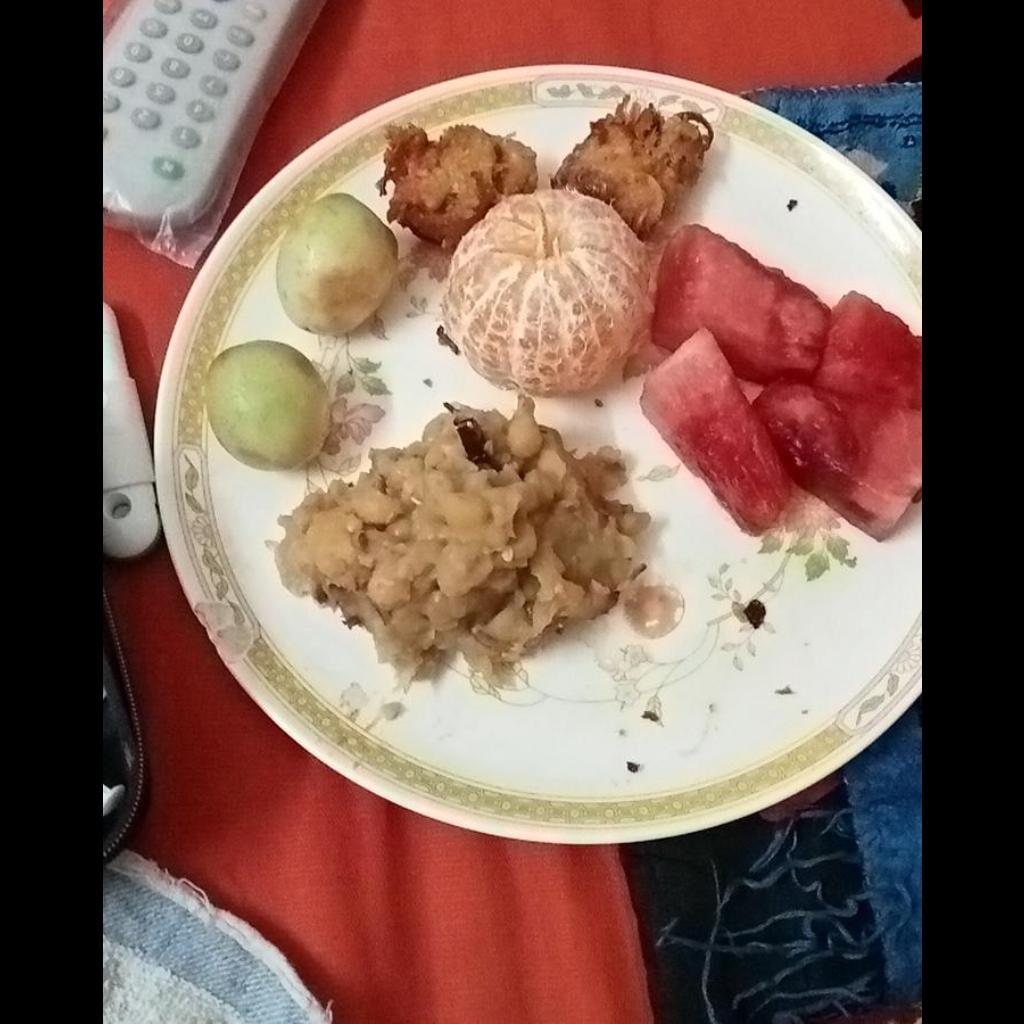daal: (278, 407, 639, 674)
orange: (439, 190, 656, 396)
peyaju: (389, 108, 708, 258)
watermelon: (644, 229, 920, 544)
